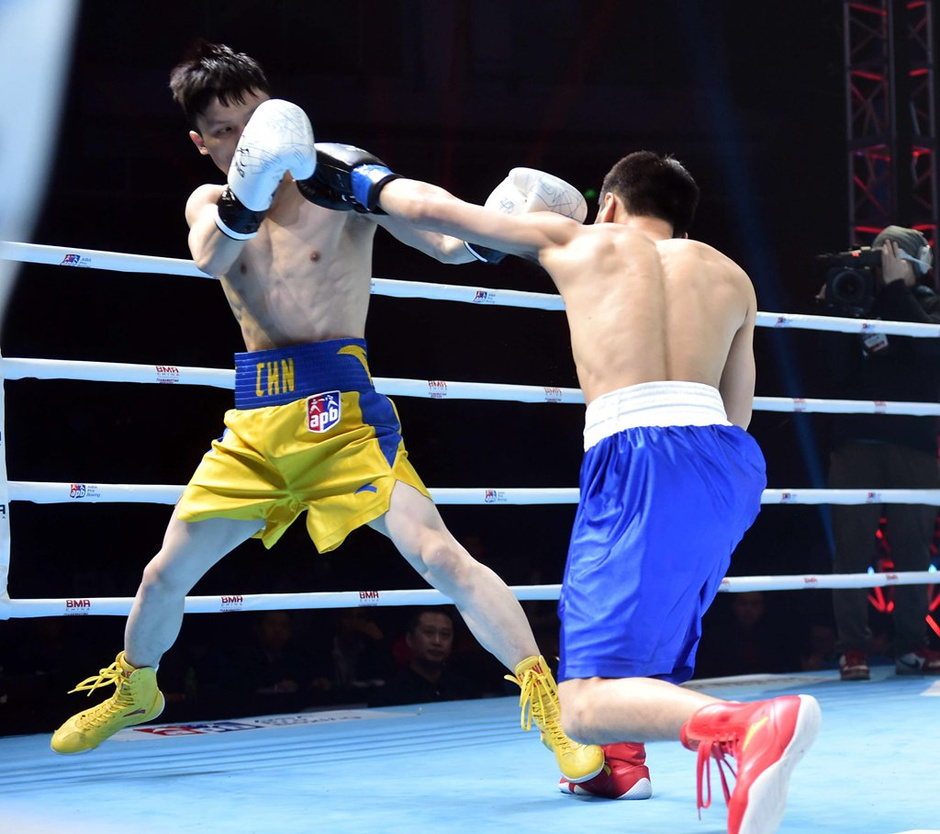face: (195, 91, 276, 182)
face_mask: (413, 614, 453, 661)
